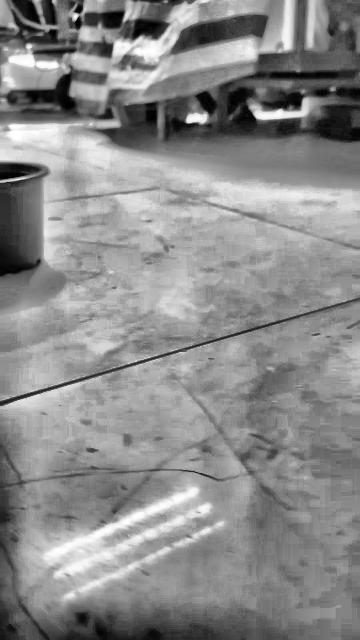pot: (0, 163, 48, 276)
